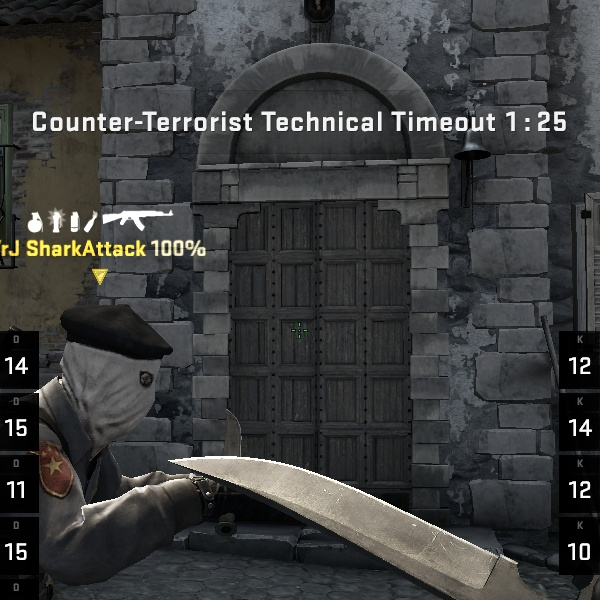ct_head: (36, 299, 177, 426)
t_body: (0, 301, 217, 595)
